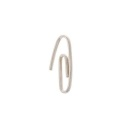Metal: (39, 32, 91, 96)
